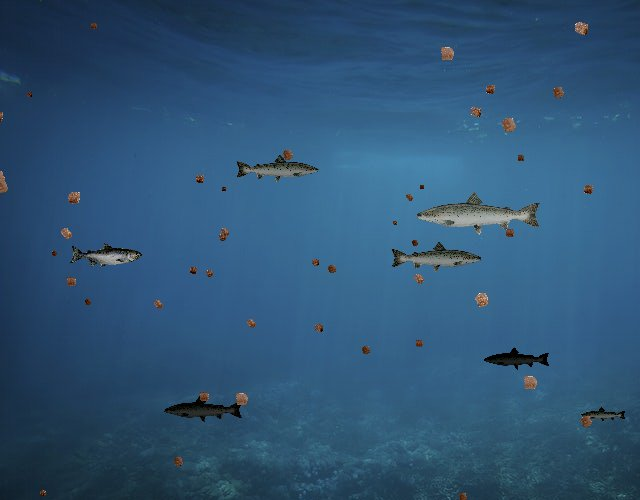Fish: (414, 190, 543, 236), (389, 240, 483, 274), (234, 153, 320, 184), (163, 394, 244, 424), (70, 242, 143, 269), (483, 346, 551, 370), (581, 406, 628, 423)
Pellet: (54, 221, 79, 246), (574, 409, 598, 433), (453, 487, 472, 500), (36, 486, 50, 500), (23, 88, 35, 100)
